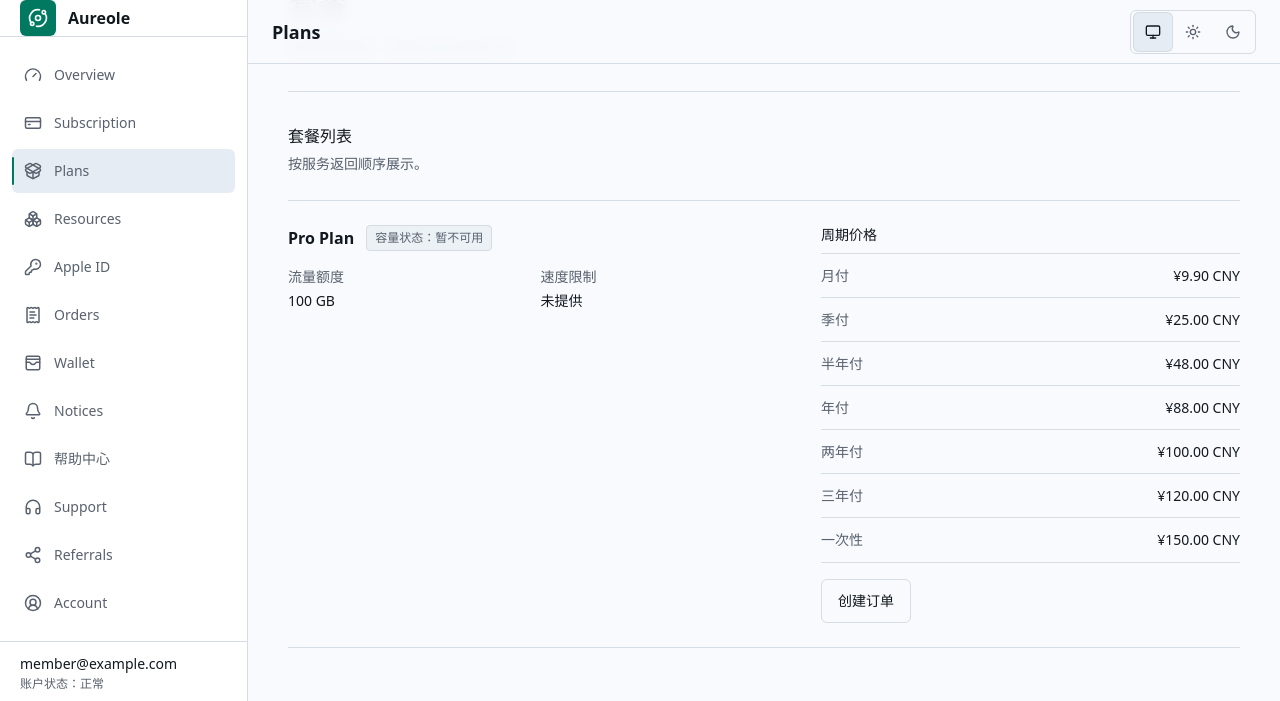
Test: Order Create flow › keeps list/detail usable without feature rows
The width and height of the screenshot is (1280, 701).
(page scrolled)
Check: the heading "Pro Plan" is shown, box top-left (288, 226), bottom-right (354, 250)
What coordinates should you click on to do the following:
click the button "创建订单"
I would click on:
 (866, 601)
Its box is top-left (821, 579), bottom-right (911, 623).
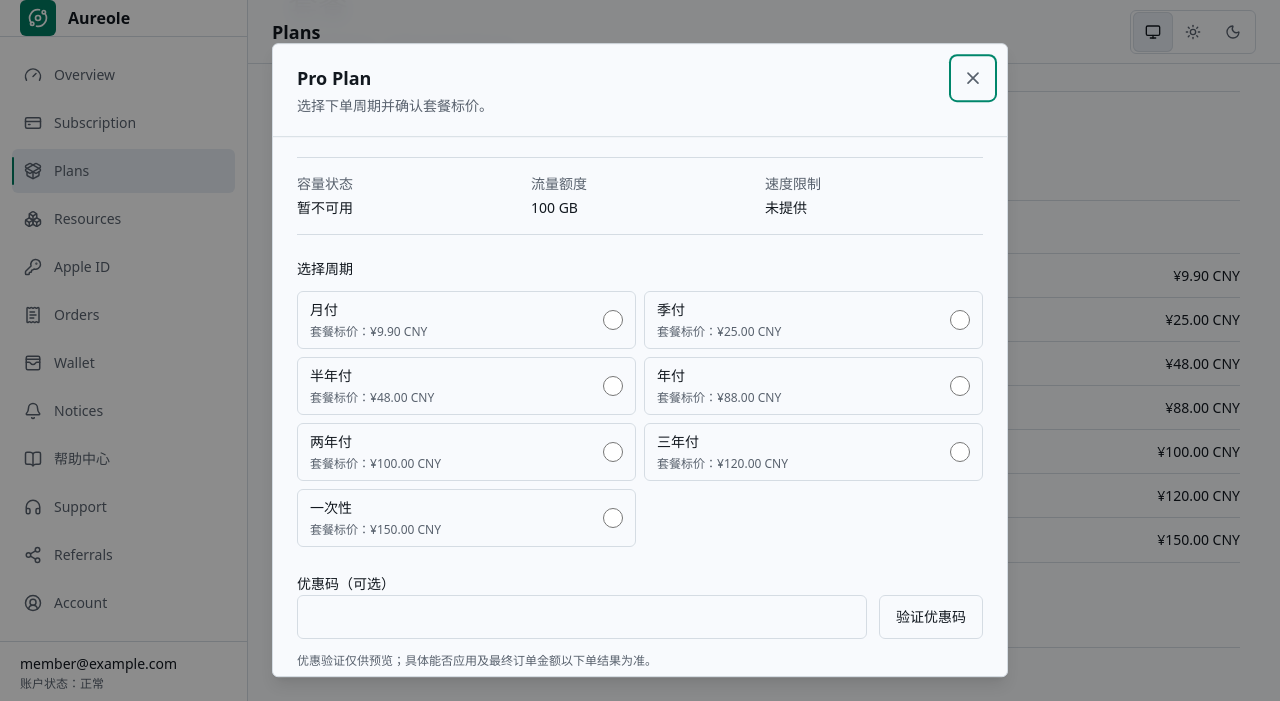
Check: the text "选择周期" is shown, box top-left (297, 259), bottom-right (353, 279)
Check: the radio button labelled "月付 套餐标价：¥9.90 CNY" is enabled, box top-left (603, 310), bottom-right (623, 330)
